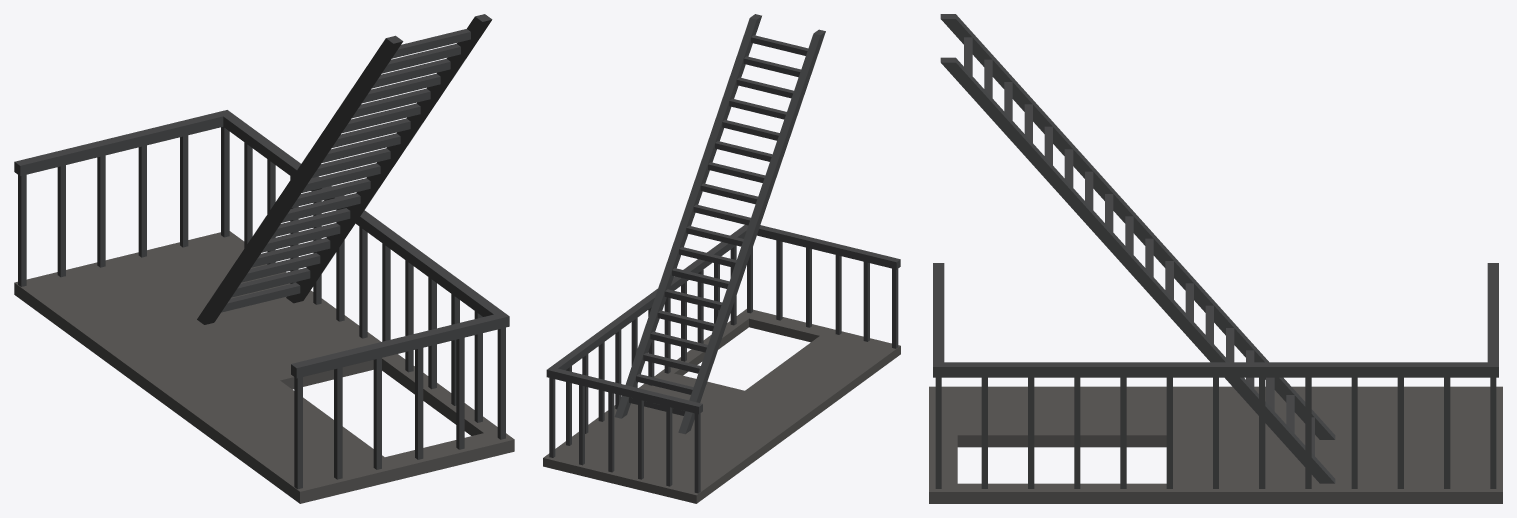
File: SM_Props_FireEscape_Mid.fbx
The picture shows the model from 3 angles, left to right: view 1: azimuth 30°, elevation 25°; view 2: azimuth 150°, elevation 25°; view 3: azimuth 270°, elevation 25°; orthographic projection. The views are drawn at different scales.
Visible parts, largest first — view 1: SM_Props_FireEscape_Mid; view 2: SM_Props_FireEscape_Mid; view 3: SM_Props_FireEscape_Mid.
Boxes of the visible parts, x1=… form: SM_Props_FireEscape_Mid: x1=14, y1=14, x2=514, y2=503; SM_Props_FireEscape_Mid: x1=543, y1=14, x2=900, y2=503; SM_Props_FireEscape_Mid: x1=929, y1=14, x2=1502, y2=503.
Bounding box in the file's own units: 131 × 250 × 300.
